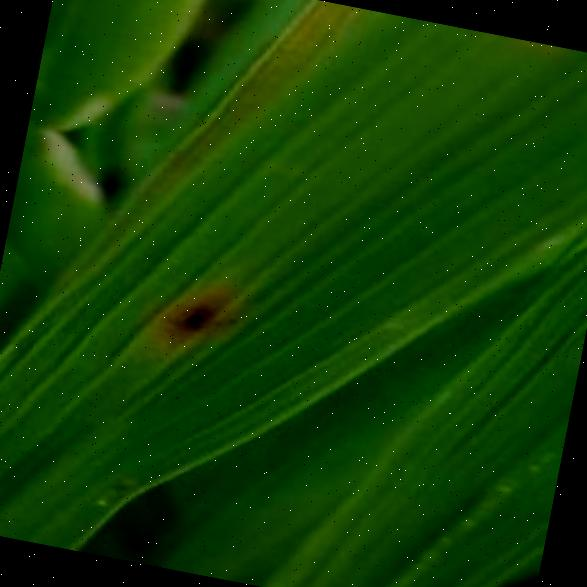Brown_Spot: (147, 268, 242, 352)
